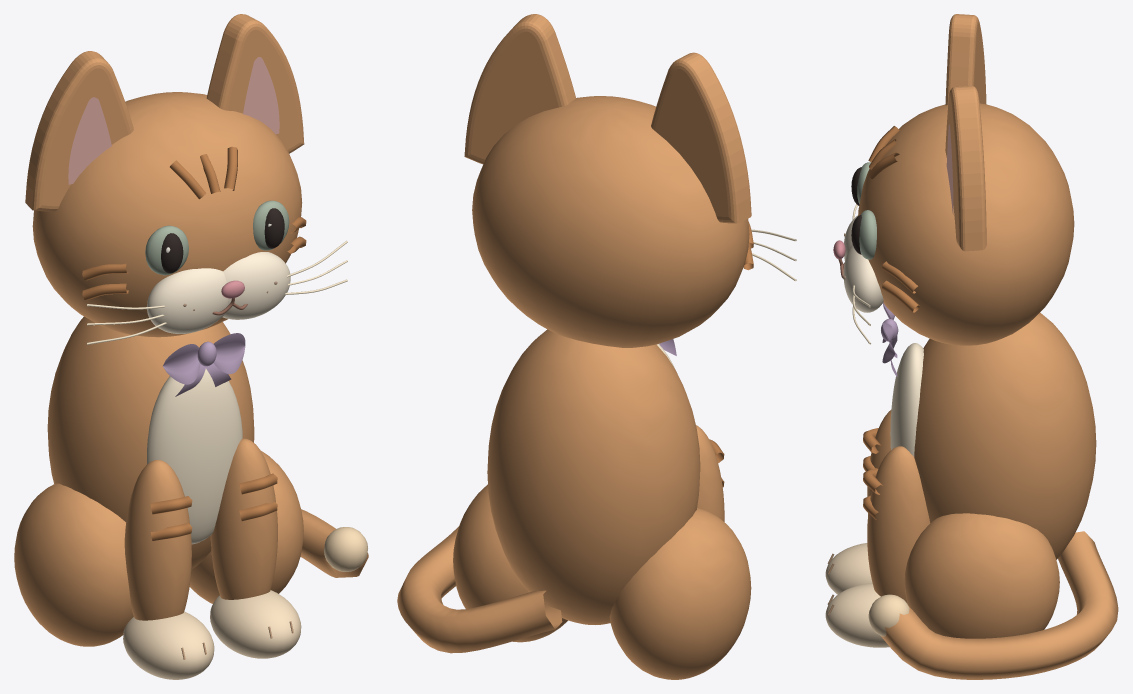
Rendered from cute-kitten.glb.
3 renders of one model, left to right at view 1: azimuth 30°, elevation 25°; view 2: azimuth 150°, elevation 25°; view 3: azimuth 270°, elevation 25°, orthographic. The views are drawn at different scales.
Visible parts, largest first — view 1: cute-kitten-plush:#dca06b, cute-kitten-cream:#f8e9cf, cute-kitten-cream:#f4ddbd, cute-kitten-cream:#faecd5, cute-kitten-plush:#b87d4c, cute-kitten-pink:#eab6ac, cute-kitten-satin:#b7a0bd, cute-kitten-dark:#a6b3a0, cute-kitten-cream:#f3d8b2, cute-kitten-dark:#332a27, cute-kitten-cream:#f8e8cb; view 2: cute-kitten-plush:#dca06b; view 3: cute-kitten-plush:#dca06b, cute-kitten-cream:#f4ddbd, cute-kitten-cream:#f8e9cf, cute-kitten-plush:#b87d4c, cute-kitten-cream:#faecd5, cute-kitten-cream:#f3d8b2, cute-kitten-dark:#a6b3a0, cute-kitten-satin:#b7a0bd, cute-kitten-dark:#332a27.
Boxes of the visible parts, left/top/right/bottom form: cute-kitten-plush:#dca06b: left=14, top=14, right=368, bottom=646; cute-kitten-cream:#f8e9cf: left=147, top=368, right=242, bottom=544; cute-kitten-cream:#f4ddbd: left=123, top=590, right=301, bottom=679; cute-kitten-cream:#faecd5: left=147, top=252, right=290, bottom=333; cute-kitten-plush:#b87d4c: left=82, top=146, right=306, bottom=540; cute-kitten-pink:#eab6ac: left=68, top=57, right=279, bottom=184; cute-kitten-satin:#b7a0bd: left=163, top=333, right=245, bottom=396; cute-kitten-dark:#a6b3a0: left=145, top=200, right=289, bottom=275; cute-kitten-cream:#f3d8b2: left=324, top=527, right=367, bottom=571; cute-kitten-dark:#332a27: left=161, top=208, right=284, bottom=273; cute-kitten-cream:#f8e8cb: left=87, top=240, right=347, bottom=344; cute-kitten-plush:#dca06b: left=397, top=14, right=751, bottom=679; cute-kitten-plush:#dca06b: left=858, top=14, right=1118, bottom=679; cute-kitten-cream:#f4ddbd: left=825, top=543, right=889, bottom=647; cute-kitten-cream:#f8e9cf: left=890, top=343, right=923, bottom=456; cute-kitten-plush:#b87d4c: left=863, top=126, right=919, bottom=519; cute-kitten-cream:#faecd5: left=843, top=215, right=883, bottom=312; cute-kitten-cream:#f3d8b2: left=868, top=594, right=909, bottom=636; cute-kitten-dark:#a6b3a0: left=857, top=162, right=876, bottom=259; cute-kitten-satin:#b7a0bd: left=881, top=302, right=898, bottom=376; cute-kitten-dark:#332a27: left=851, top=167, right=861, bottom=254.
Size of the model in its own units: 0.7969 by 1.43 by 0.6675.
